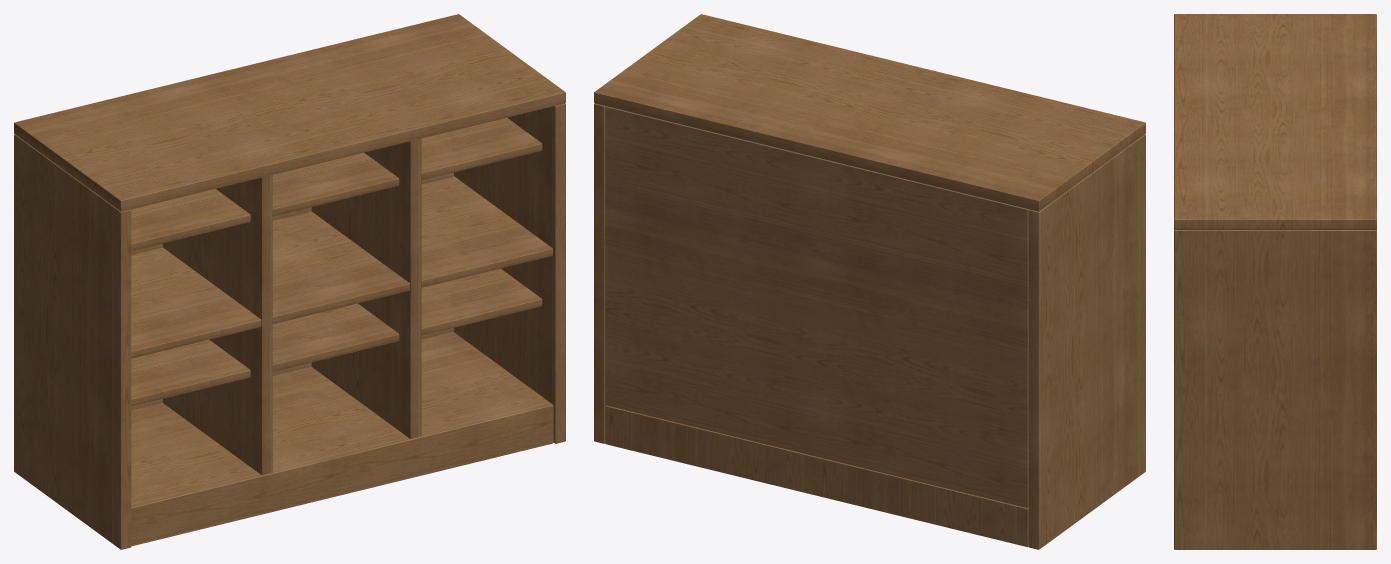
File: Rearlocker_02.FBX
The picture shows the model from 3 angles, left to right: view 1: azimuth 30°, elevation 25°; view 2: azimuth 150°, elevation 25°; view 3: azimuth 270°, elevation 25°; orthographic projection. The views are drawn at different scales.
Parts seen in each view (by area): view 1: Rearlocker_02; view 2: Rearlocker_02; view 3: Rearlocker_02.
Boxes of the visible parts, x1=… form: Rearlocker_02: x1=14, y1=14, x2=565, y2=549; Rearlocker_02: x1=594, y1=14, x2=1145, y2=549; Rearlocker_02: x1=1174, y1=14, x2=1376, y2=549.
Size of the model in its own units: 120 by 90 by 50.
